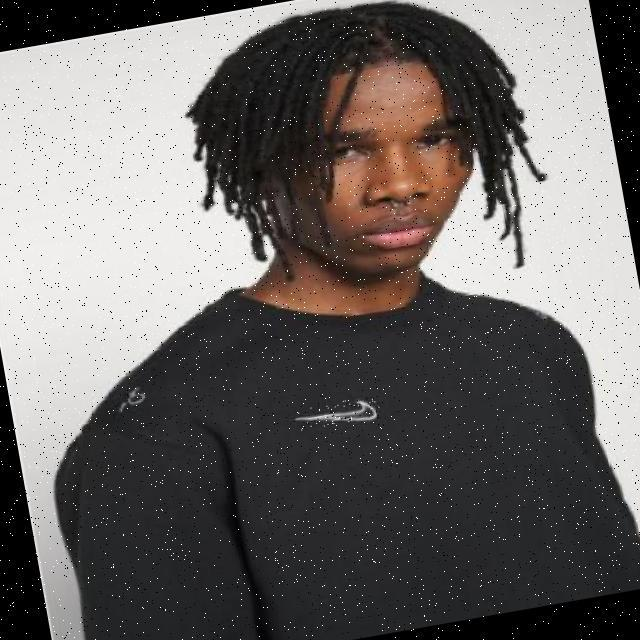Nike: (295, 395, 381, 431)
